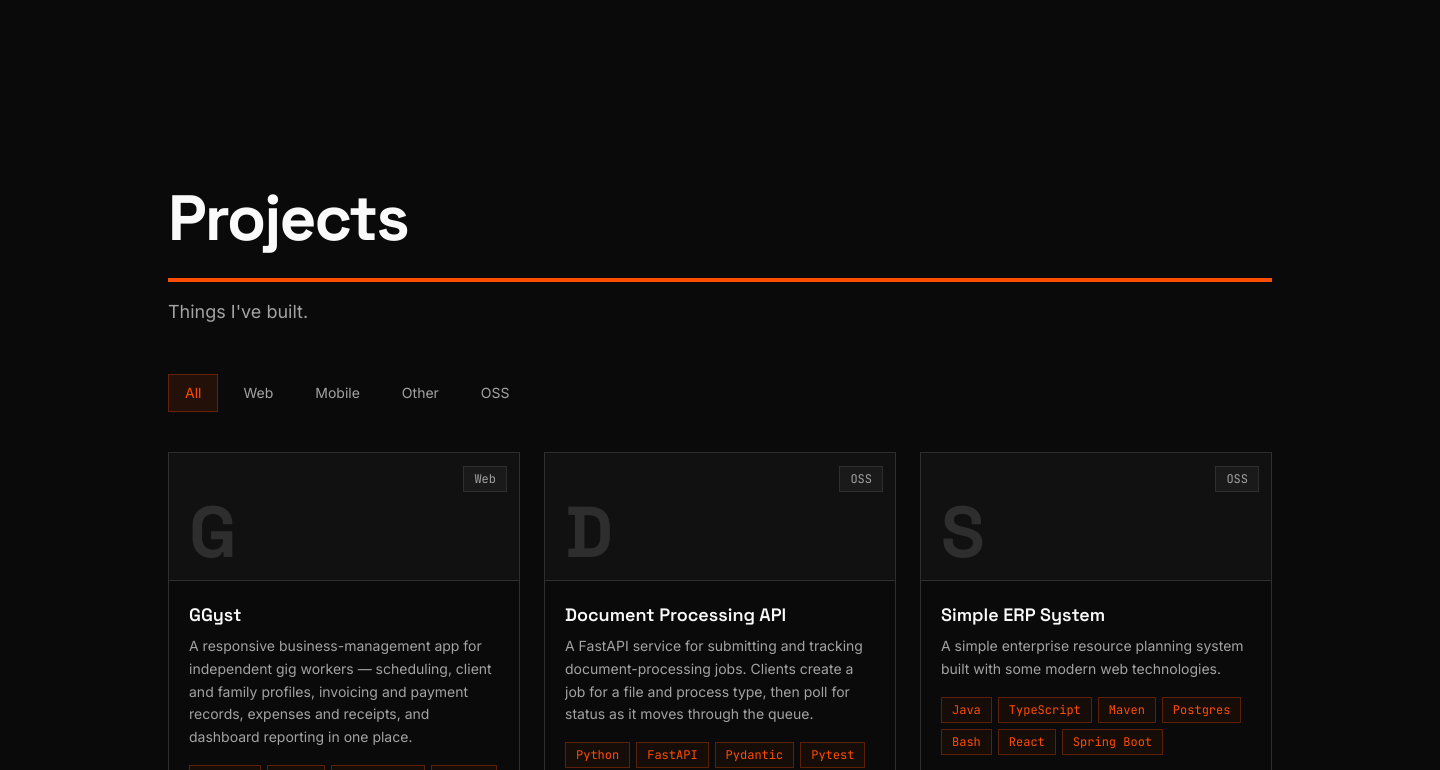
Test: Projects – filter buttons › clicking "All" after a filter restores all projects
Click the button "Web" at {"x": 258, "y": 393}, box [226,374,290,412]
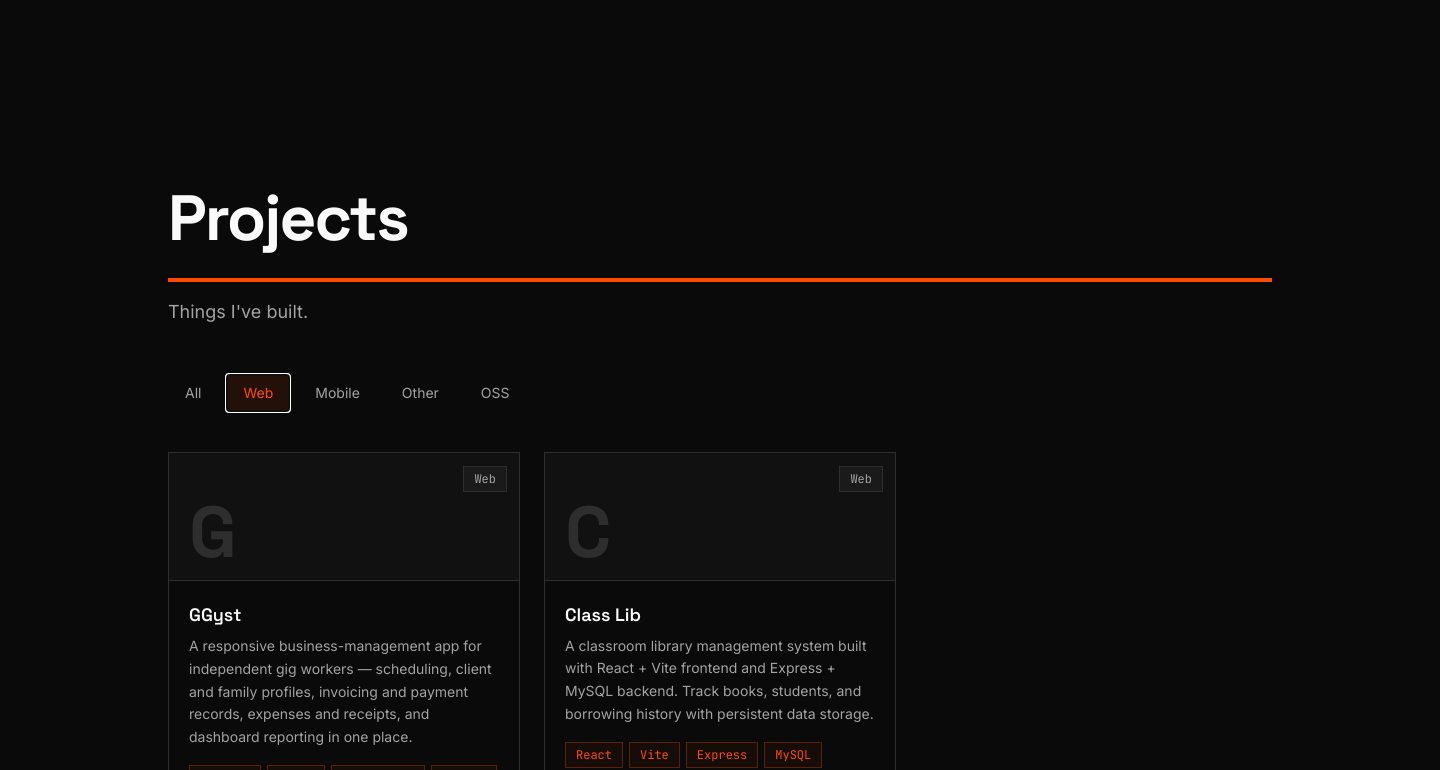
Click the button "All" at {"x": 193, "y": 393}, box [168,374,218,412]
(page scrolled)
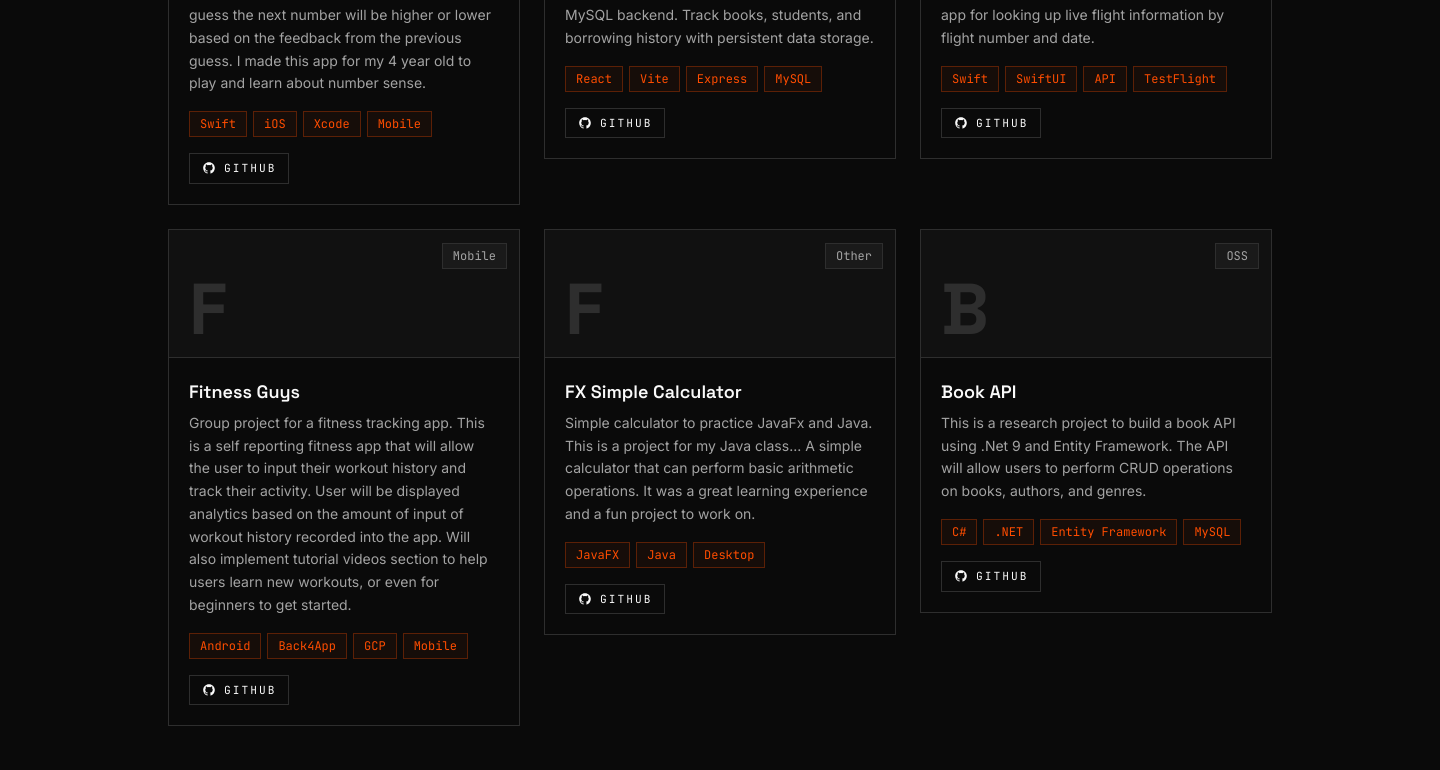
Expected: the heading "Fitness Guys" is shown, [189,380,300,403]
Expected: the heading "FX Simple Calculator" is shown, [565,380,742,403]
Expected: the heading "Book API" is shown, [941,380,1016,403]
